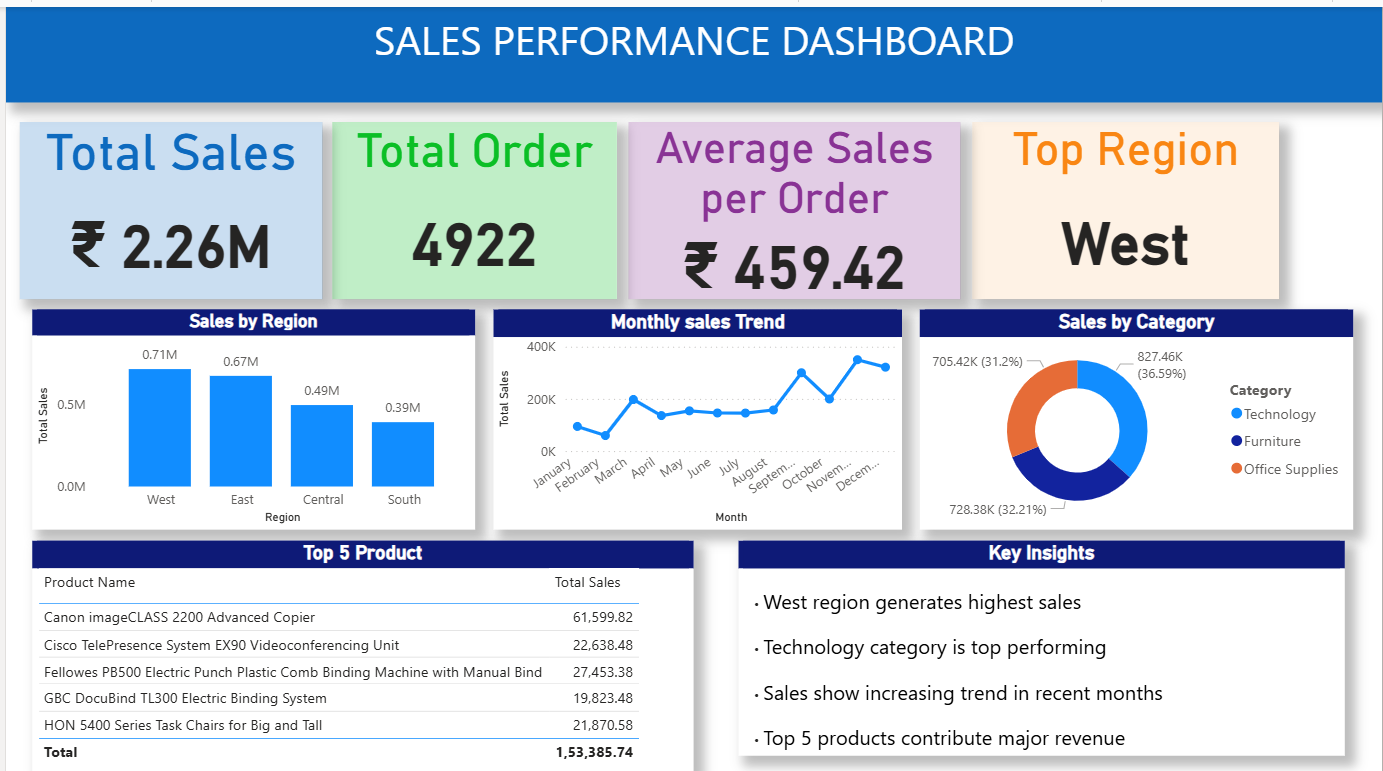

What the dashboard file says about the page in this screenshot:
{"tool":"powerbi","page":{"name":"Page 1","canvas":[1280,720],"ordinal":0},"visuals":[{"type":"textbox","box":[0,0,1280.3,89.2],"z":0},{"type":"card","title":"Total Sales","fields":{"Values":["train.Total Sales"]},"box":[12.3,107,281.3,164.7],"z":1000},{"type":"card","title":"Total Order","fields":{"Values":["train.Total Orders"]},"box":[303.3,107,264.8,164.7],"z":2000},{"type":"card","title":"Average Sales  per Order","fields":{"Values":["train.Average_Sales_Per_Order"]},"box":[579.1,107,308.7,164.7],"z":3000},{"type":"card","title":"Top Region","fields":{"Values":["train.Top Region"]},"box":[898.8,107,285.4,164.7],"z":4000},{"type":"columnChart","title":" Sales by Region","fields":{"Category":["train.Region"],"Y":["train.Total Sales"]},"box":[24.4,281.4,411.6,204.7],"z":5000},{"type":"lineChart","title":"Monthly sales Trend","fields":{"Y":["train.Total Sales"],"Category":["train.Order Date.Variation.Date Hierarchy.Month"]},"box":[453.5,281.4,380.2,204.7],"z":6000},{"type":"donutChart","title":"Sales by Category","fields":{"Y":["Sum(train.Sales)"],"Category":["train.Category"]},"box":[850,281.4,403.5,204.7],"z":7000},{"type":"tableEx","title":"Top 5 Product","fields":{"Values":["train.Product Name","train.Total Sales"]},"box":[24.4,496.5,619.8,200],"z":8000},{"type":"textbox","title":"Key Insights","box":[681.4,496.5,564,200],"z":9000}]}

Visuals, with their boxes in screenshot pixels (x1, y1, x2, y2), scaled from the page's 1280x720 canvas onto the 1383x771 screenshot:
textbox: bbox(0, 0, 1382, 96)
"Total Sales" card: bbox(13, 115, 317, 291)
"Total Order" card: bbox(328, 115, 614, 291)
"Average Sales  per Order" card: bbox(626, 115, 959, 291)
"Top Region" card: bbox(971, 115, 1279, 291)
" Sales by Region" columnChart: bbox(26, 301, 471, 521)
"Monthly sales Trend" lineChart: bbox(490, 301, 901, 521)
"Sales by Category" donutChart: bbox(918, 301, 1354, 521)
"Top 5 Product" tableEx: bbox(26, 532, 696, 746)
"Key Insights" textbox: bbox(736, 532, 1346, 746)
